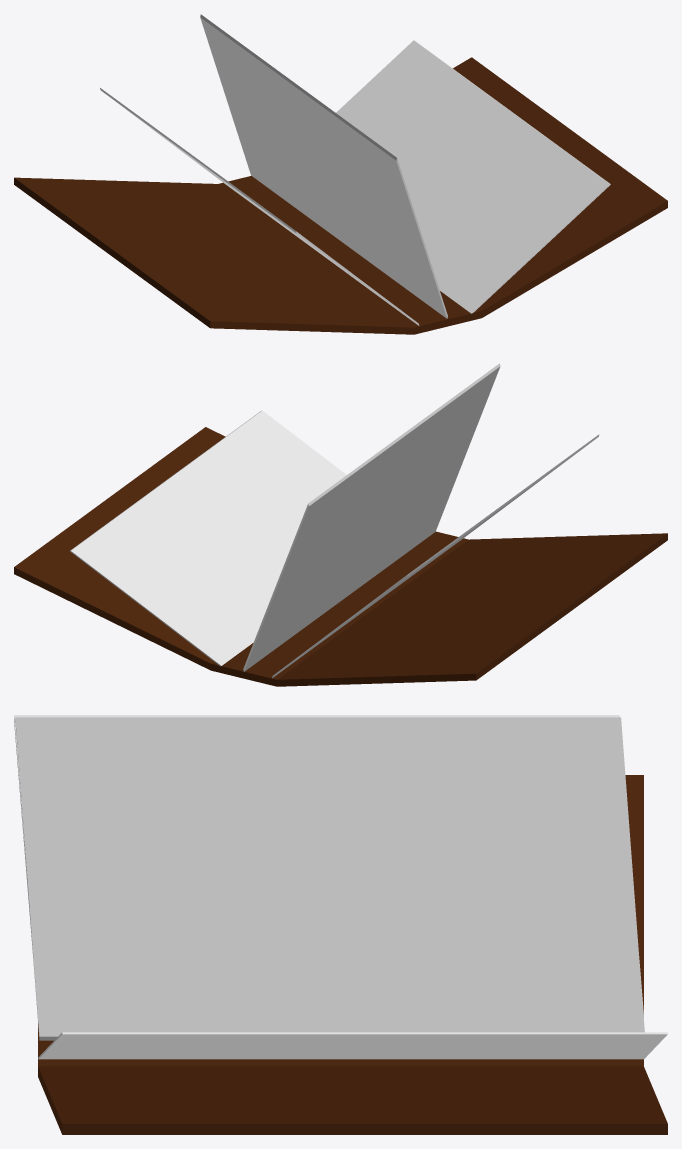
The model's file is booklet.fbx.
The picture shows the model from 3 angles, top to bottom: view 1: azimuth 30°, elevation 25°; view 2: azimuth 150°, elevation 25°; view 3: azimuth 270°, elevation 25°; orthographic projection. The views are drawn at different scales.
Parts seen in each view (by area): view 1: Page2; view 2: Page2; view 3: Page2.
Boxes of the visible parts, x1,y1,x2,y2 form: Page2: (14, 14, 667, 334); Page2: (14, 363, 667, 686); Page2: (14, 715, 667, 1134).
Bounding box in the file's own units: 6.85 × 2.65 × 5.4.
